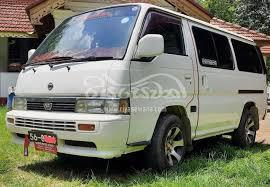Van: (16, 3, 270, 163)
